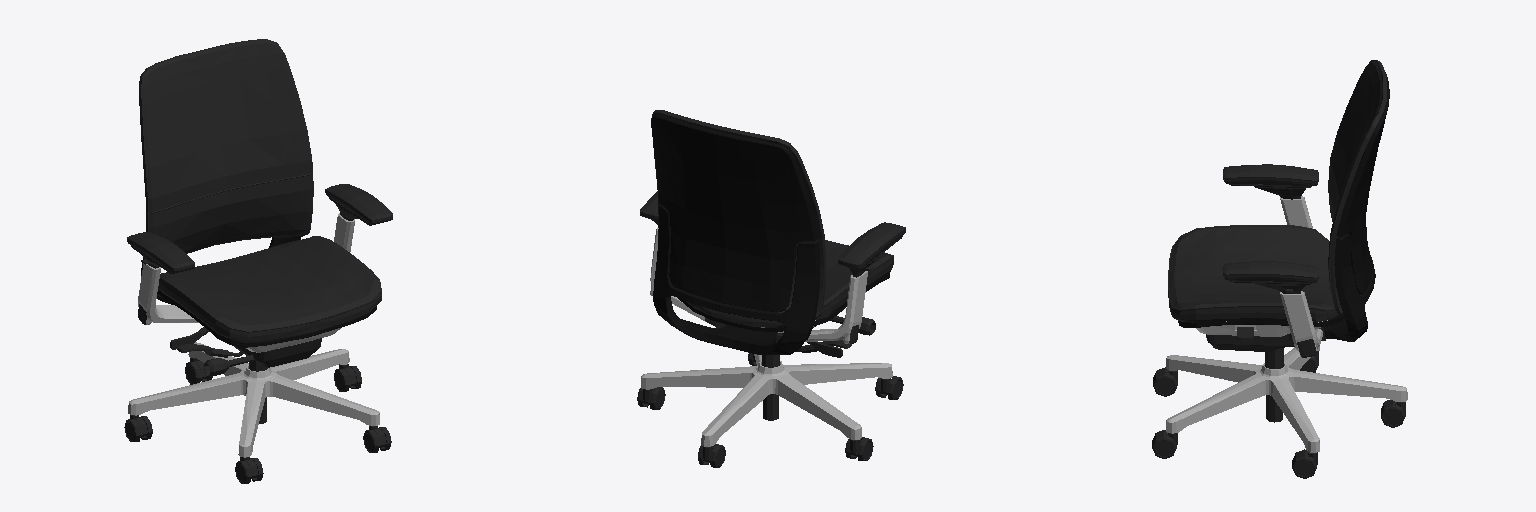
The model's file is office-chair.obj.
The picture shows the model from 3 angles: view 1: azimuth 30°, elevation 25°; view 2: azimuth 150°, elevation 25°; view 3: azimuth 270°, elevation 25°; orthographic projection.
Parts seen in each view (by area): view 1: Amia_BackS, Amia_SeatS, Amia_Base, Amia_ArmCa, Amia_Frame_Black, Amia_Arms, Amia_Frame, Amia_Cast2, Amia_Caste, Amia_Cast0, Amia_Cast1; view 2: Amia_Frame, Amia_Base, Amia_SeatS, Amia_BackS, Amia_ArmCa, Amia_Arms, Amia_Frame_Black, Amia_Base_Black, Amia_Caste, Amia_Cast0, Amia_Cast3; view 3: Amia_SeatS, Amia_Base, Amia_Frame, Amia_BackS, Amia_ArmCa, Amia_Arms, Amia_Frame_Black, Amia_Arms2, Amia_Frame2, Amia_Base_Black, Amia_Cast2, Amia_Cast1 (+2 smaller).
Boxes of the visible parts, box(x1,y1,x2,y2) form: Amia_BackS: box(139, 39, 313, 258); Amia_SeatS: box(158, 236, 381, 342); Amia_Base: box(128, 342, 379, 457); Amia_ArmCa: box(127, 184, 392, 273); Amia_Frame_Black: box(170, 327, 321, 376); Amia_Arms: box(138, 213, 354, 324); Amia_Frame: box(141, 237, 376, 361); Amia_Cast2: box(334, 364, 361, 391); Amia_Caste: box(124, 415, 152, 441); Amia_Cast0: box(235, 457, 263, 483); Amia_Cast1: box(363, 426, 391, 452); Amia_Frame: box(651, 115, 889, 354); Amia_Base: box(641, 354, 892, 446); Amia_SeatS: box(688, 240, 893, 327); Amia_BackS: box(651, 110, 825, 318); Amia_ArmCa: box(640, 191, 905, 269); Amia_Arms: box(650, 228, 867, 343); Amia_Frame_Black: box(761, 316, 875, 357); Amia_Base_Black: box(762, 355, 779, 420); Amia_Caste: box(845, 437, 873, 460); Amia_Cast0: box(875, 376, 903, 399); Amia_Cast3: box(698, 444, 725, 467); Amia_SeatS: box(1168, 225, 1343, 322); Amia_Base: box(1166, 346, 1407, 452); Amia_Frame: box(1178, 72, 1389, 346); Amia_BackS: box(1328, 60, 1386, 314); Amia_ArmCa: box(1223, 164, 1318, 282); Amia_Arms: box(1280, 196, 1322, 355); Amia_Frame_Black: box(1206, 327, 1293, 351); Amia_Arms2: box(1229, 184, 1311, 293); Amia_Frame2: box(1196, 320, 1327, 336); Amia_Base_Black: box(1265, 348, 1283, 422); Amia_Cast2: box(1292, 449, 1317, 478); Amia_Cast1: box(1152, 430, 1177, 458).
Size of the model in its own units: 0.5304 by 0.7564 by 0.52.